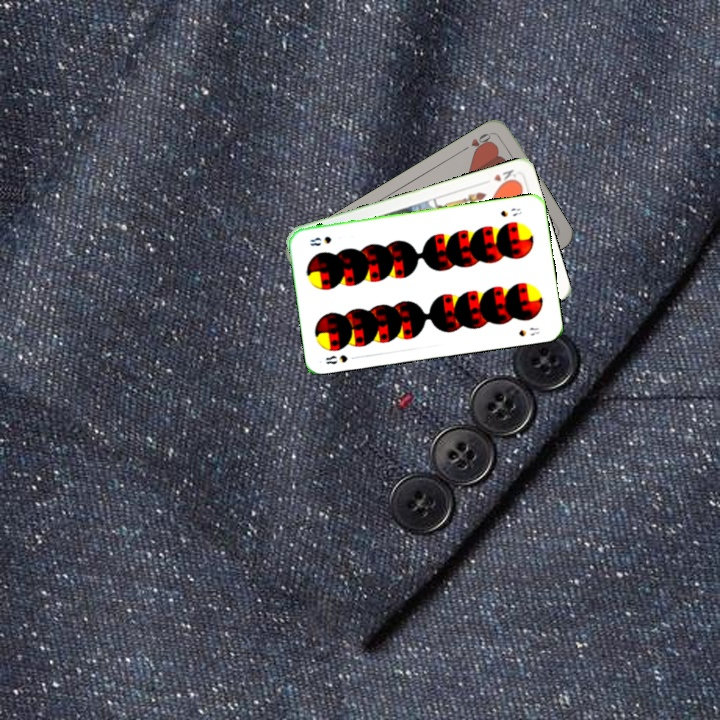HK: (489, 165, 520, 188)
HO: (459, 128, 496, 155)
S8: (322, 351, 350, 367), (496, 204, 524, 219)
